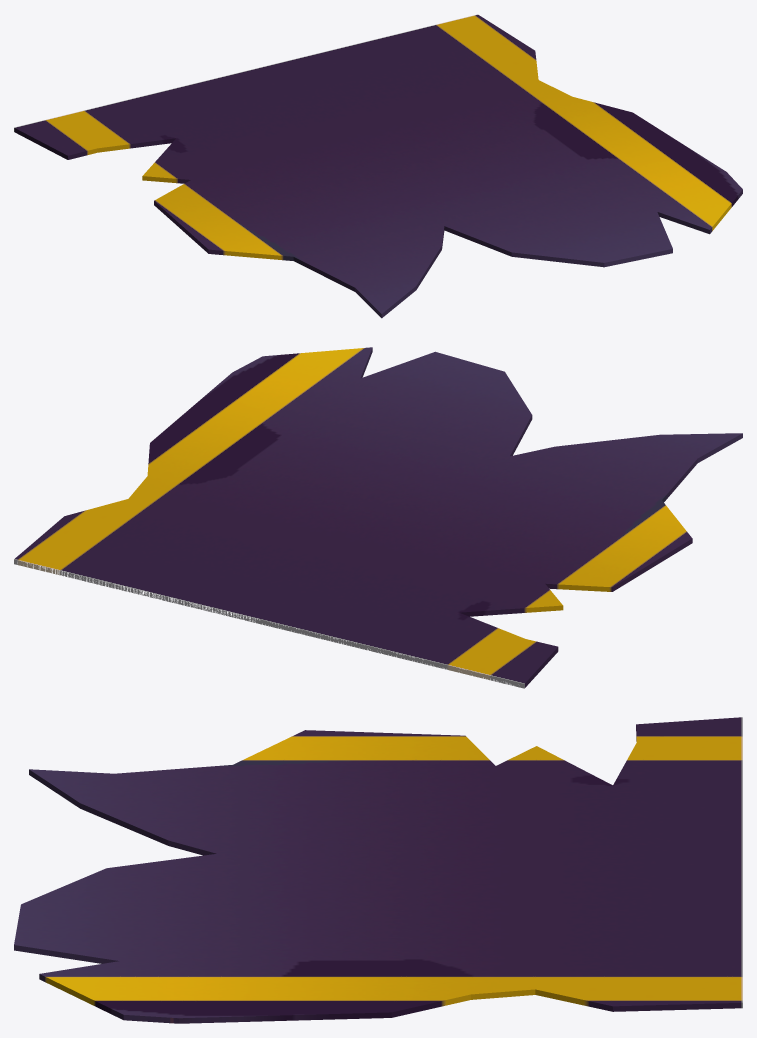
Rendered from Carpet 01 End 03.fbx.
3 views of the same model, one above another, from view 1: azimuth 30°, elevation 25°; view 2: azimuth 150°, elevation 25°; view 3: azimuth 270°, elevation 25° (orthographic). The views are drawn at different scales.
Visible parts, largest first — view 1: Carpet 01 End 03; view 2: Carpet 01 End 03; view 3: Carpet 01 End 03.
Boxes of the visible parts, <box> form: Carpet 01 End 03: <box>14,14,742,318</box>; Carpet 01 End 03: <box>14,347,742,688</box>; Carpet 01 End 03: <box>14,717,742,1023</box>.
Size of the model in its own units: 176 by 1.5 by 180.
